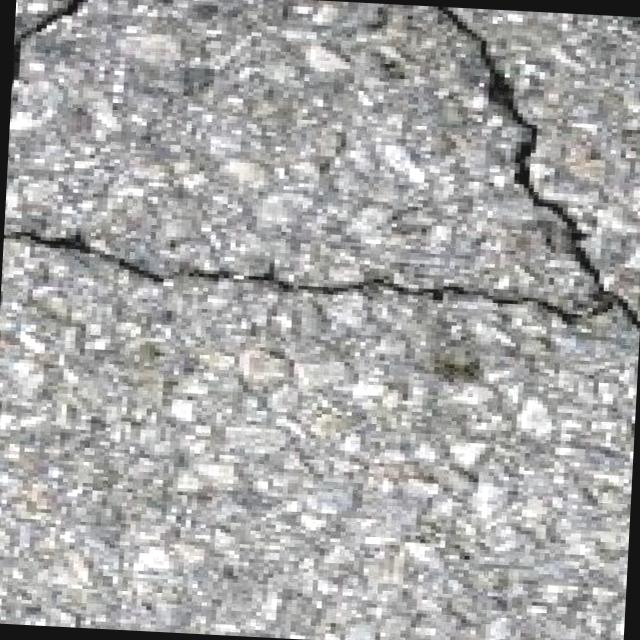crack: (1, 226, 640, 329), (422, 6, 604, 258), (11, 0, 107, 99)
